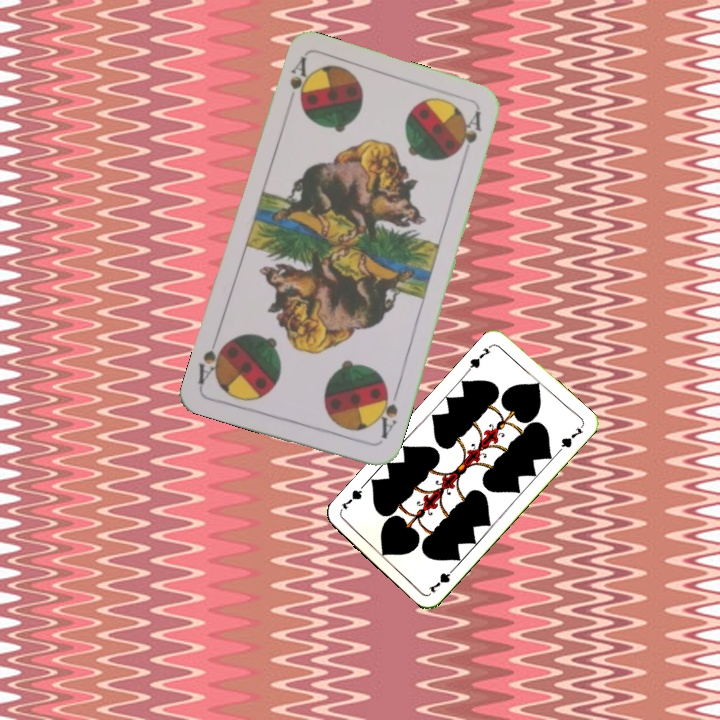G7: (425, 562, 459, 596), (464, 344, 493, 374)
SA: (283, 53, 314, 111), (371, 384, 401, 442)
